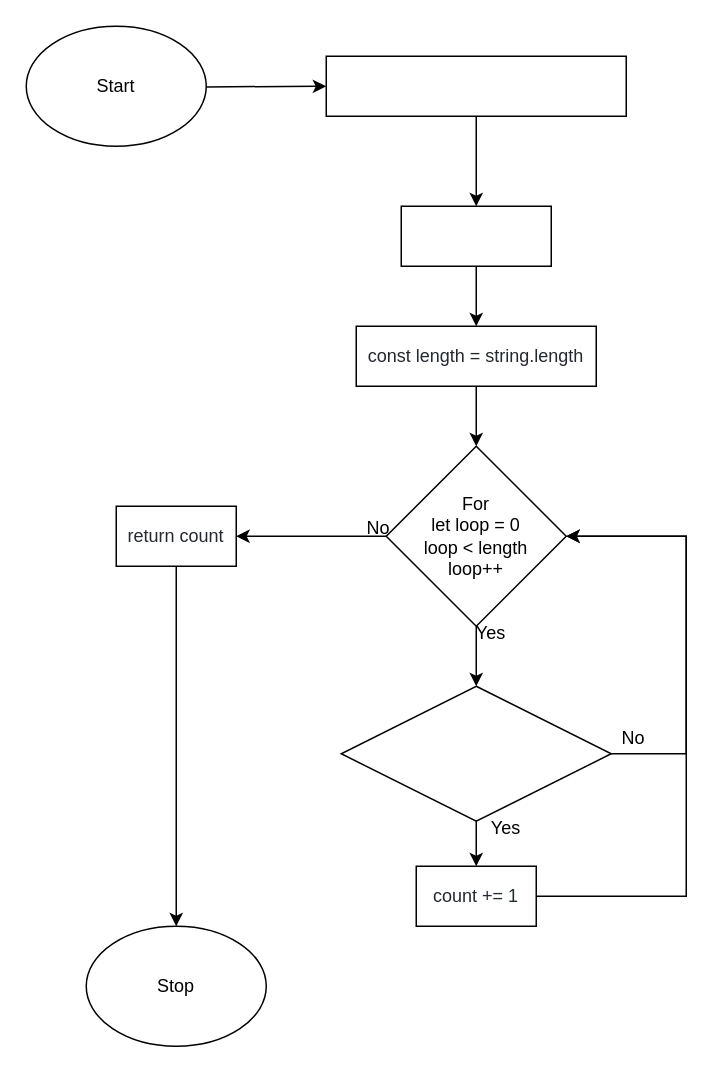
Image size: 725x1073. Some labels were removed from this diagram. Here are the shapes that lost their labels. From the top down, the centre of each, then its label:
At (475,85): "const vowelList = 'aeiouyAEIOUY'".
At (475,235): "let count = 0".
At (475,753): "If vowelList.includes(string[loop])".
